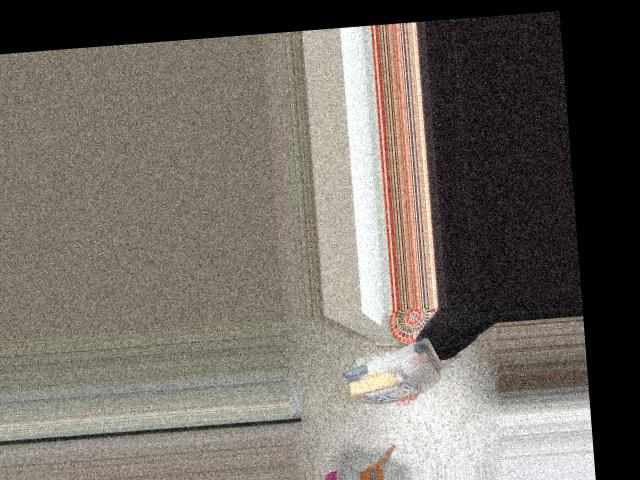cheese: (337, 329, 442, 407)
